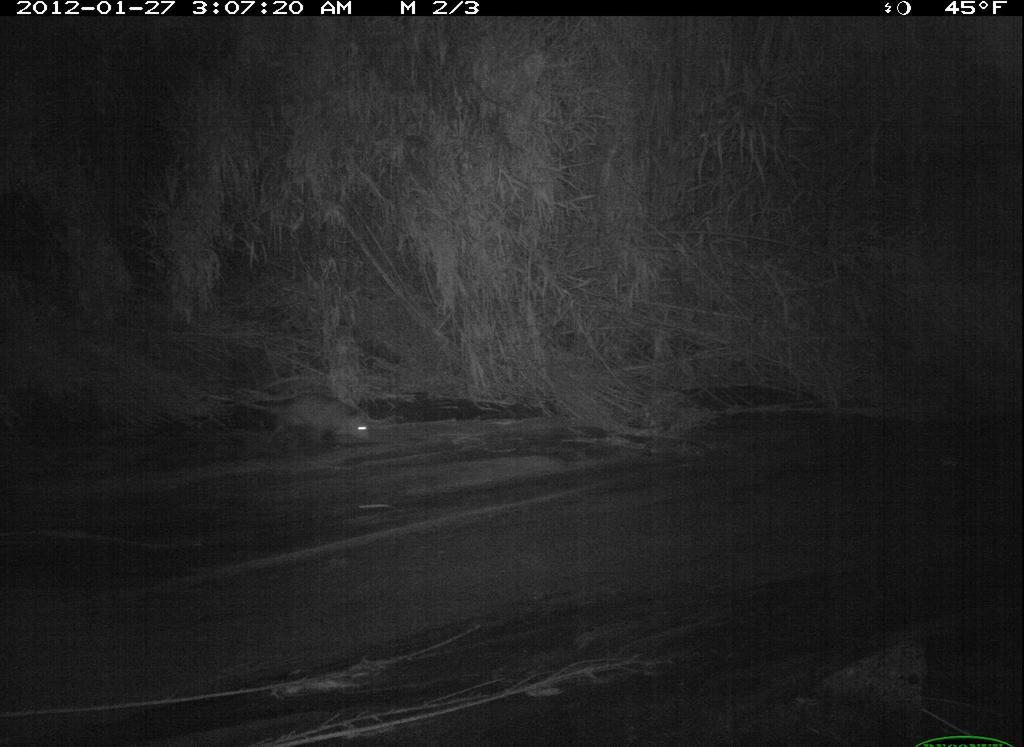opossum: (217, 367, 415, 461)
